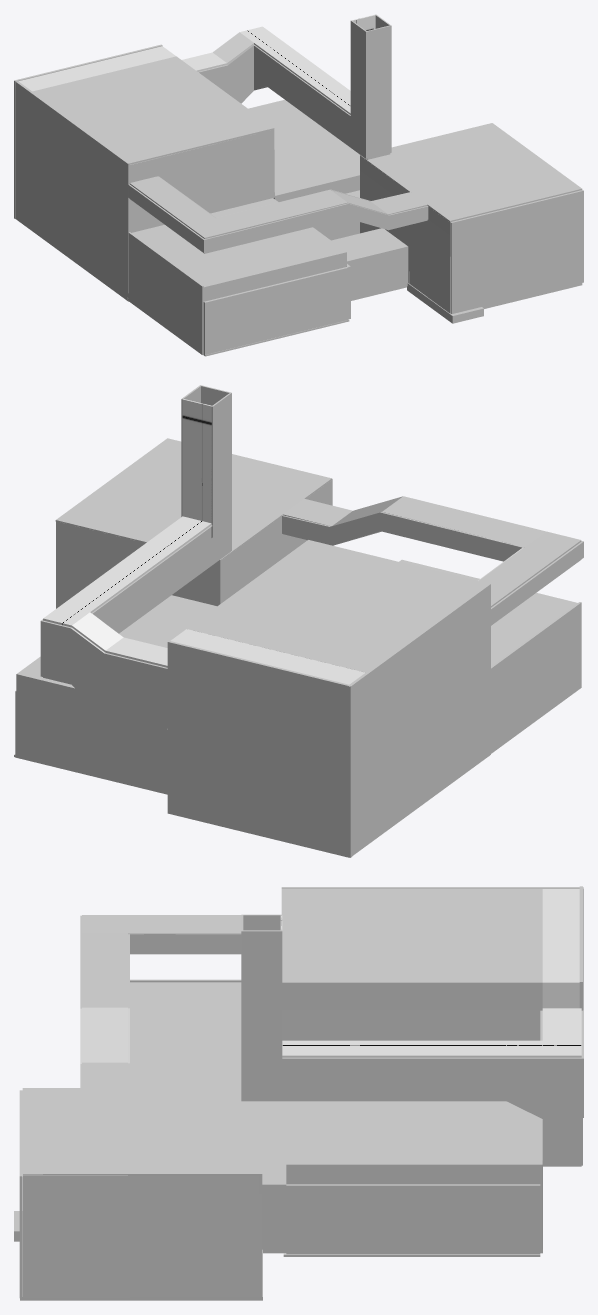
The model's file is Level01_Fps.fbx.
3 views of the same model, one above another, from view 1: azimuth 30°, elevation 25°; view 2: azimuth 150°, elevation 25°; view 3: azimuth 270°, elevation 25° (orthographic). The views are drawn at different scales.
Parts seen in each view (by area): view 1: Security check wall, Cube, Cube.018, Cube.006, Cube.019, Ventilation, Cube.017, Cube.013, Cube.003, Cube.016, Cube.021, Cube.022 (+4 smaller); view 2: Cube.010, Cube, Security check wall, Cube.006, Ventilation, Cube.003, Cube.019, Cube.016, Cube.005, Cube.014, Cube.021, Cube.002 (+1 smaller); view 3: Cube.006, Cube.020, Security check wall, Cube.019, Cube.005, Security check wall.001, Ventilation, Cube.017, Cube.003, Cube.001, Cube.004, Cube.024 (+5 smaller).
Part boxes in pixels (x1,y1,x2,y2): Security check wall: [32, 56, 274, 233]; Cube: [15, 81, 129, 300]; Cube.018: [450, 190, 583, 313]; Cube.006: [127, 44, 450, 313]; Cube.019: [360, 123, 582, 222]; Ventilation: [128, 176, 428, 253]; Cube.017: [132, 198, 346, 301]; Cube.013: [203, 267, 348, 355]; Cube.003: [19, 14, 375, 114]; Cube.016: [128, 232, 203, 354]; Cube.021: [360, 156, 449, 313]; Cube.022: [331, 228, 408, 299]; Cube.010: [167, 640, 352, 857]; Cube: [347, 583, 490, 857]; Security check wall: [187, 540, 487, 672]; Cube.006: [15, 525, 216, 794]; Ventilation: [282, 496, 583, 625]; Cube.003: [43, 399, 365, 684]; Cube.019: [55, 438, 331, 561]; Cube.016: [491, 602, 581, 753]; Cube.005: [40, 619, 167, 729]; Cube.014: [56, 521, 218, 608]; Cube.021: [218, 480, 331, 605]; Cube.002: [211, 392, 231, 564]; Cube.006: [262, 1010, 542, 1254]; Cube.020: [23, 1174, 259, 1297]; Security check wall: [281, 889, 542, 1040]; Cube.019: [22, 1088, 262, 1175]; Cube.005: [282, 1010, 583, 1117]; Security check wall.001: [286, 985, 542, 1040]; Ventilation: [80, 915, 241, 1087]; Cube.017: [130, 982, 241, 1087]; Cube.003: [280, 889, 581, 1057]; Cube.001: [241, 930, 282, 1100]; Cube.004: [241, 915, 581, 1166]; Cube.024: [20, 1231, 262, 1300].
Size of the model in its own units: 5906 by 3615 by 6106.
1 material, 1 textured.
